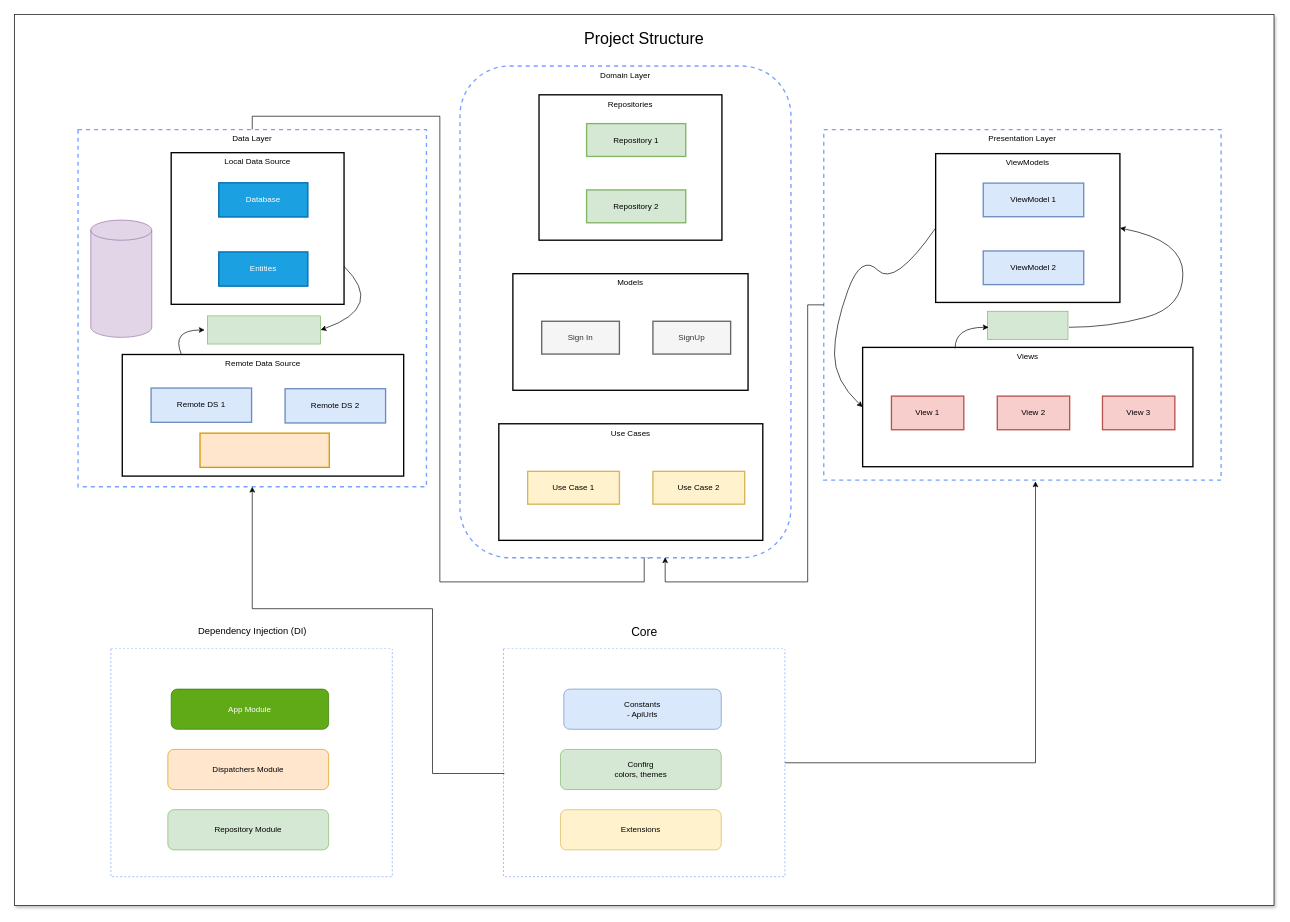
The diagram is 1290 pixels wide and 922 high, and some of its shapes have lost their labels. The centre of each missing label's shape, as x and y in pixels:
Data Transfer Objects( Dto): point (264, 450)
Mappers: point (121, 278)
Repository Implementation: point (264, 329)
State/Events: point (1027, 325)
